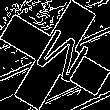M_SW: (23, 22, 87, 88)
